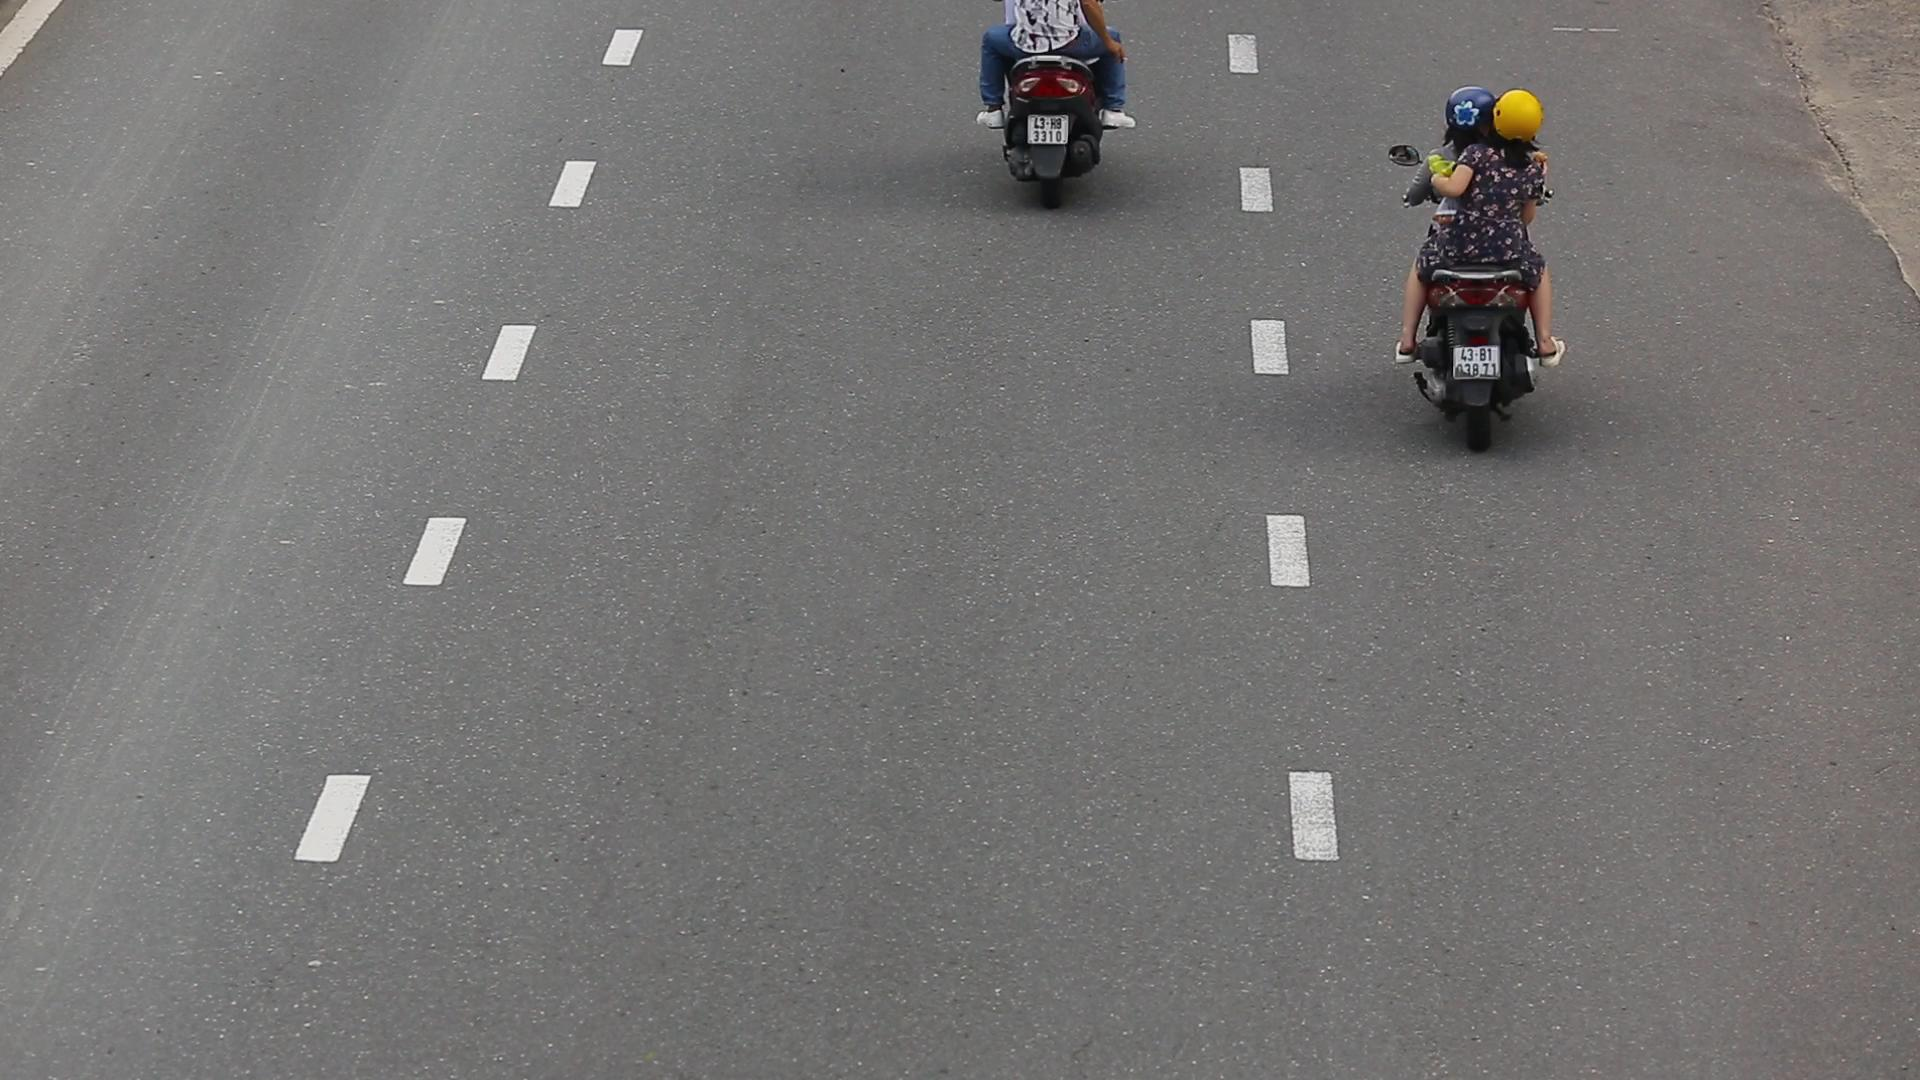motobike: (1373, 74, 1582, 456)
